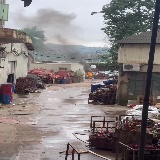fire: (88, 72, 94, 76)
